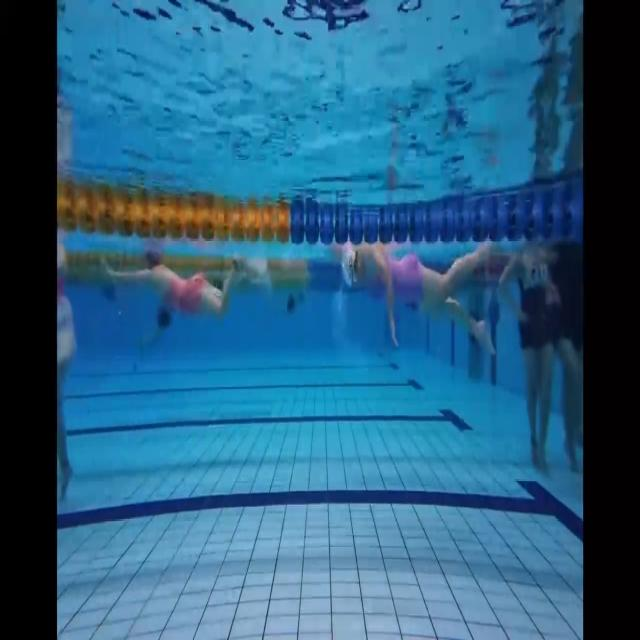Swimming: (335, 241, 496, 356), (98, 244, 245, 316)
